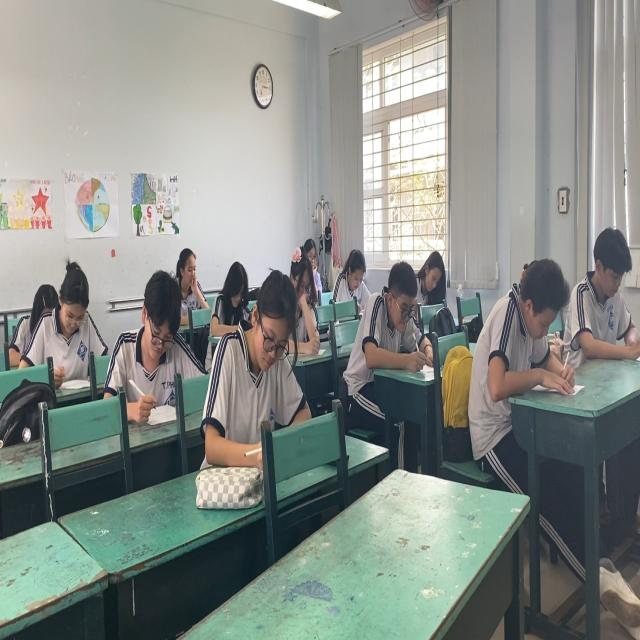not_cheating: (217, 261, 299, 434), (114, 272, 202, 419), (483, 253, 577, 374), (31, 261, 102, 378), (579, 212, 640, 347), (277, 230, 326, 355), (361, 258, 421, 358), (414, 244, 461, 316), (167, 244, 210, 319), (334, 240, 374, 316), (216, 254, 250, 316)
